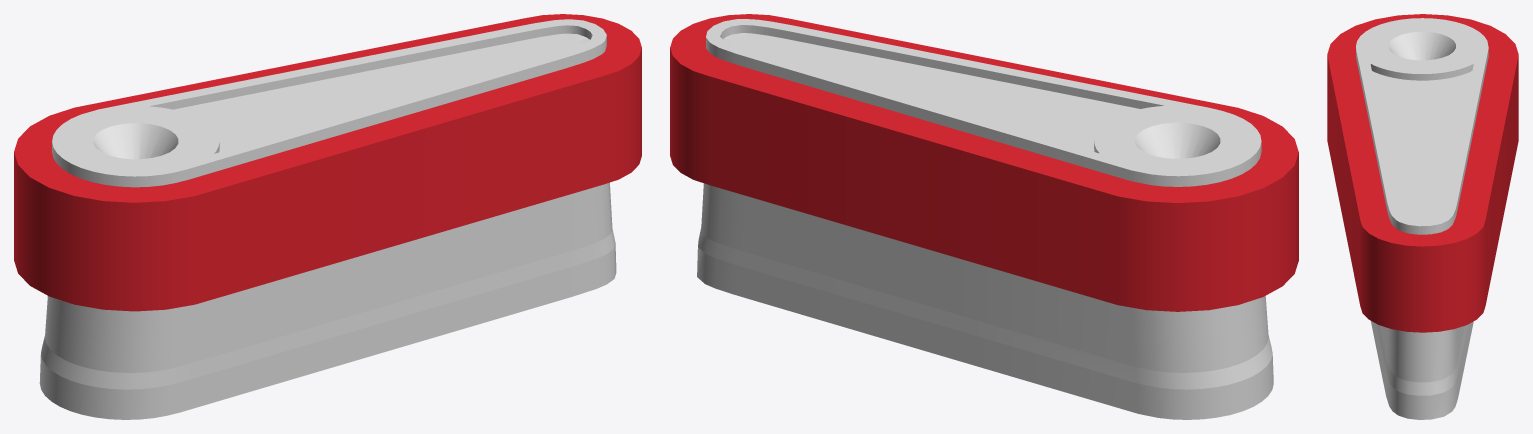
The model's file is Flipper, Generic, Variant 3 (2.25in).fbx.
The picture shows the model from 3 angles, left to right: view 1: azimuth 30°, elevation 25°; view 2: azimuth 150°, elevation 25°; view 3: azimuth 270°, elevation 25°; orthographic projection. The views are drawn at different scales.
Parts seen in each view (by area): view 1: Flipper, Generic, Variant 3 (2-1/4"); view 2: Flipper, Generic, Variant 3 (2-1/4"); view 3: Flipper, Generic, Variant 3 (2-1/4").
Part boxes in pixels (box(x1,y1,x2,y2)): Flipper, Generic, Variant 3 (2-1/4"): box(14, 14, 641, 419); Flipper, Generic, Variant 3 (2-1/4"): box(670, 14, 1298, 419); Flipper, Generic, Variant 3 (2-1/4"): box(1327, 14, 1518, 419).
Size of the model in its own units: 6.25 by 2.38 by 2.18.
